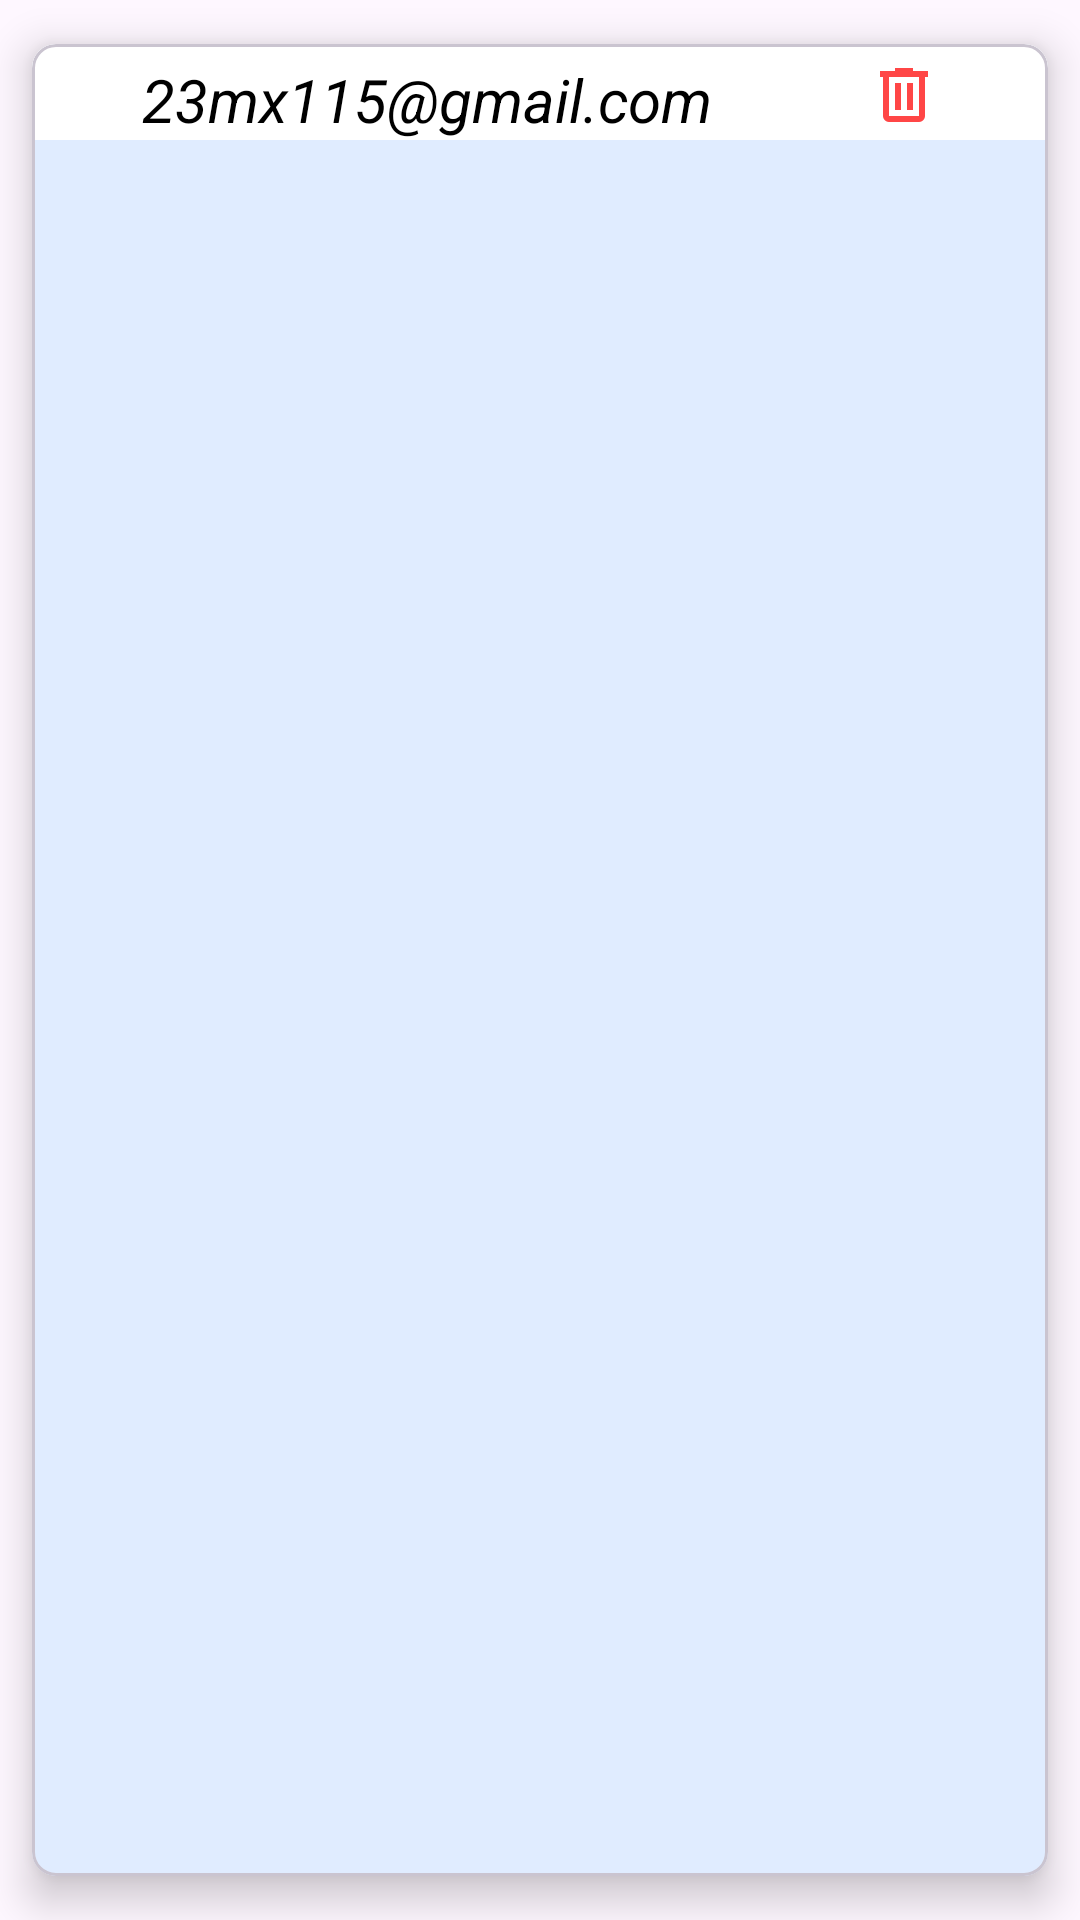

Where to tap for icons on this 1080×1920 app screen, as point (x, y):
delete: point (904, 95)
